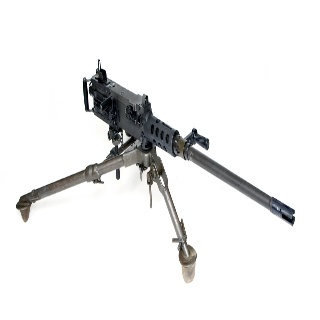rifle: (16, 57, 298, 283)
